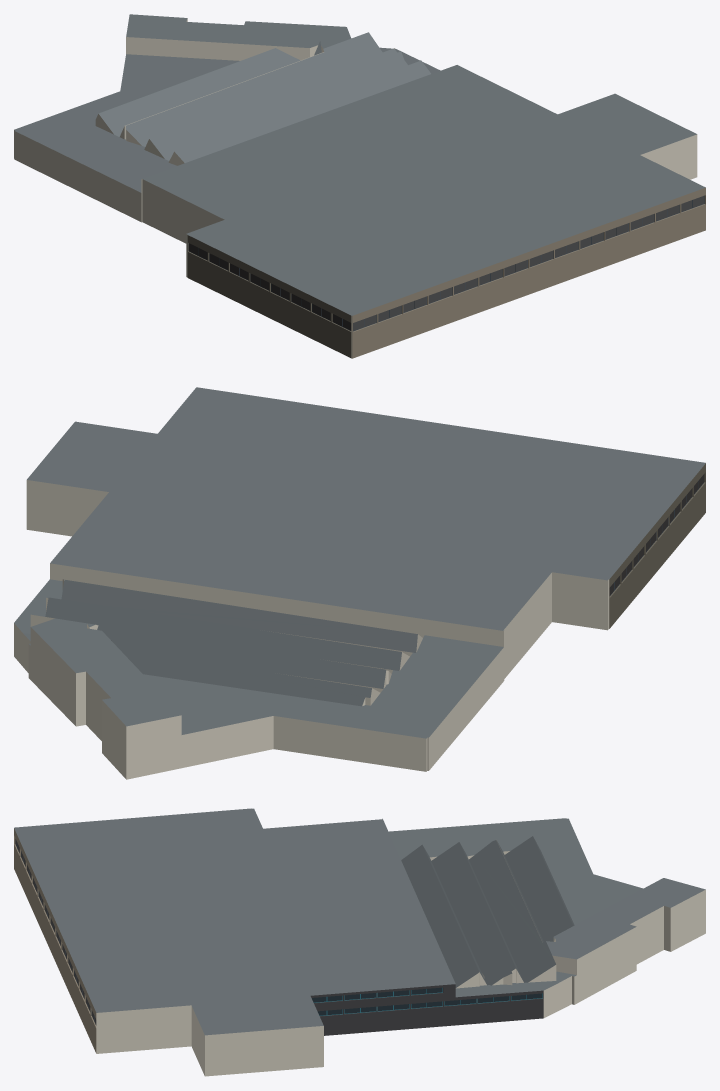
File: recipe-large-schaafstraat-17-091631.glb
3 views of the same model, one above another, from view 1: azimuth 30°, elevation 25°; view 2: azimuth 150°, elevation 25°; view 3: azimuth 270°, elevation 25° (orthographic). The views are drawn at different scales.
Parts seen in each view (by area): view 1: schaafstraat-17-091631; view 2: schaafstraat-17-091631; view 3: schaafstraat-17-091631.
Part boxes in pixels (bbox=[...]): schaafstraat-17-091631: bbox=[14, 14, 705, 358]; schaafstraat-17-091631: bbox=[14, 387, 705, 779]; schaafstraat-17-091631: bbox=[14, 808, 705, 1076].
Size of the model in its own units: 86.14 by 8.3 by 109.
